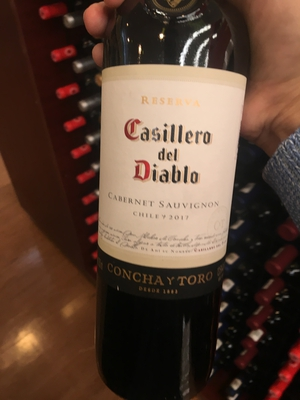casillero del diablo cabernet sauvignon: (92, 19, 246, 400)
